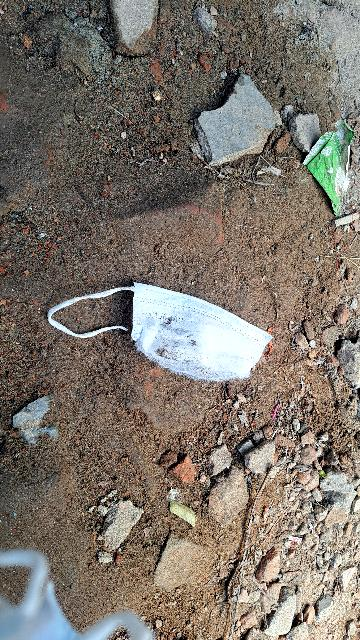mask: (122, 277, 268, 379)
